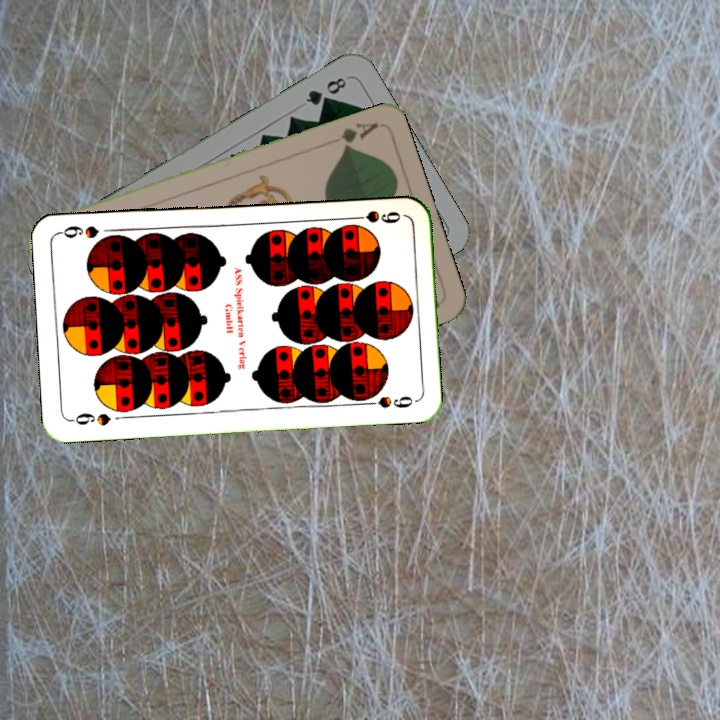G8: (301, 73, 349, 109)
GA: (336, 118, 381, 153)
S9: (346, 206, 403, 226), (67, 409, 113, 429)
